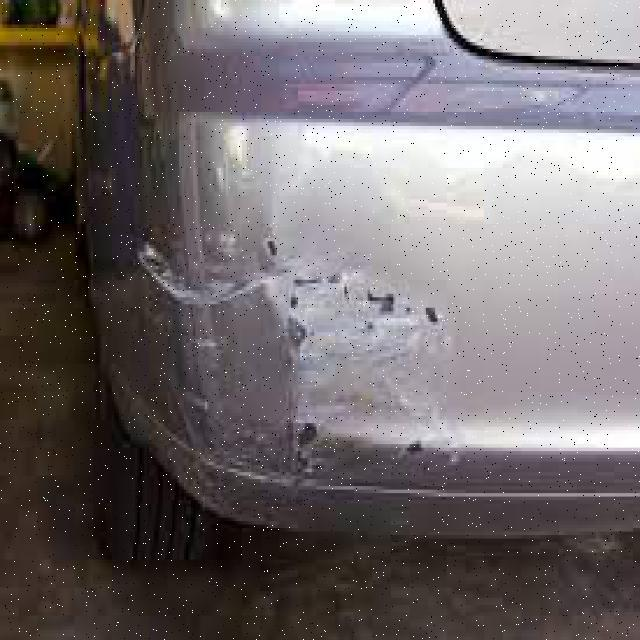rear-bumper-dent: (47, 87, 598, 576)
